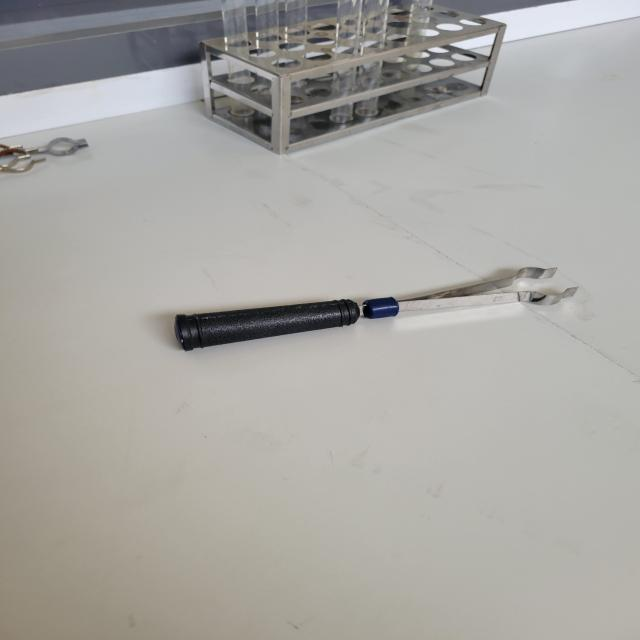TestTube_Holder: (144, 236, 600, 400)
